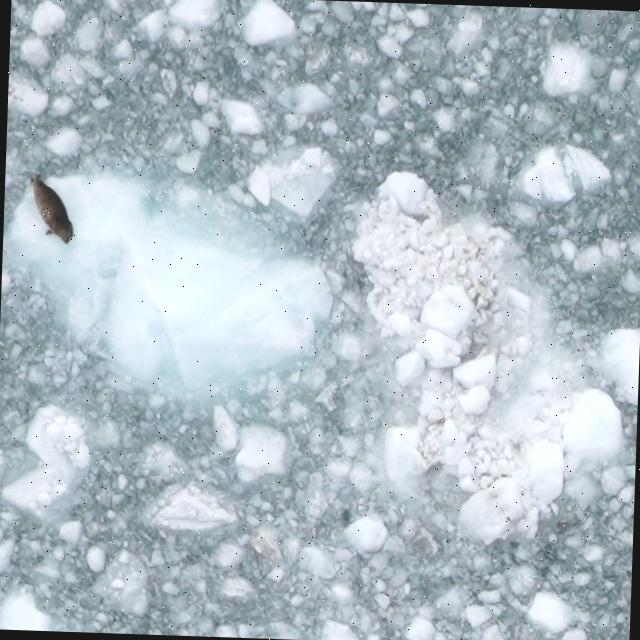seal: (24, 169, 79, 249)
